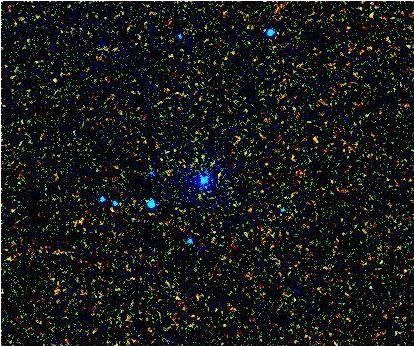star: (233, 137, 263, 167)
